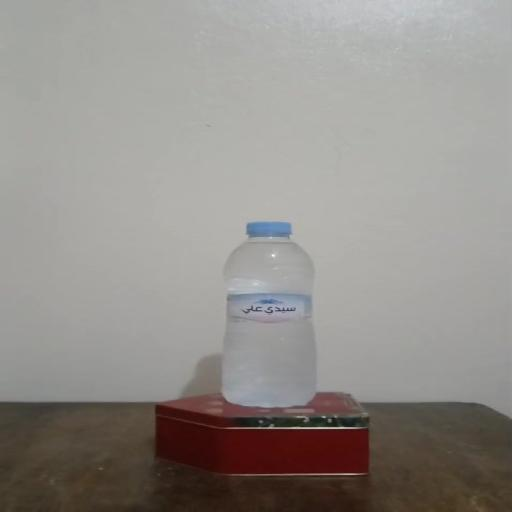bouteille conformite: (202, 209, 341, 412)
